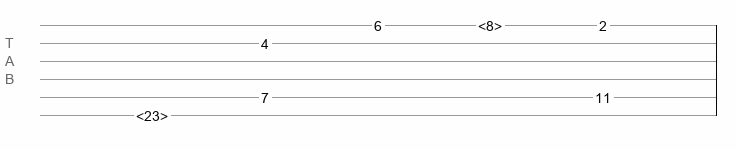11: (595, 90, 611, 100)
2: (599, 18, 607, 28)
4: (261, 36, 269, 46)
6: (374, 18, 382, 28)
7: (261, 90, 269, 100)
harmonic: (136, 108, 168, 118), (478, 18, 502, 28)
